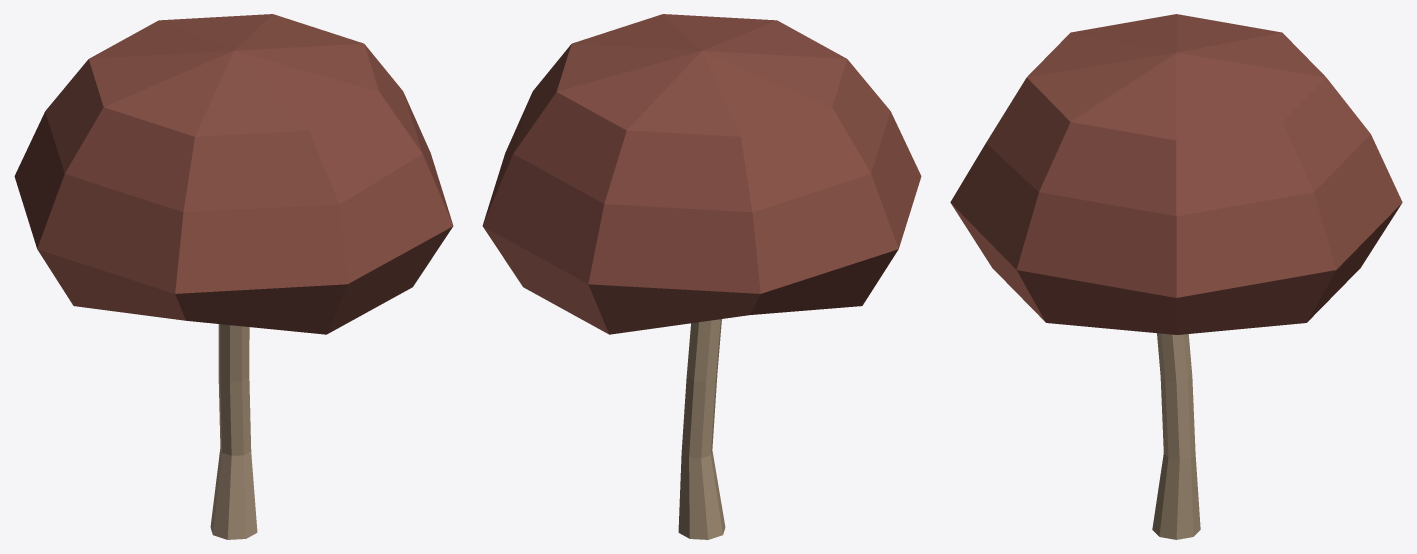
File: Mushroom_Red.fbx
3 renders of one model, left to right at view 1: azimuth 30°, elevation 25°; view 2: azimuth 150°, elevation 25°; view 3: azimuth 270°, elevation 25°, orthographic.
Parts seen in each view (by area): view 1: Mushroom_Red; view 2: Mushroom_Red; view 3: Mushroom_Red.
Part boxes in pixels (bbox=[...]): Mushroom_Red: bbox=[14, 14, 453, 539]; Mushroom_Red: bbox=[482, 14, 921, 539]; Mushroom_Red: bbox=[950, 14, 1402, 539].
Size of the model in its own units: 427 by 497 by 427.
